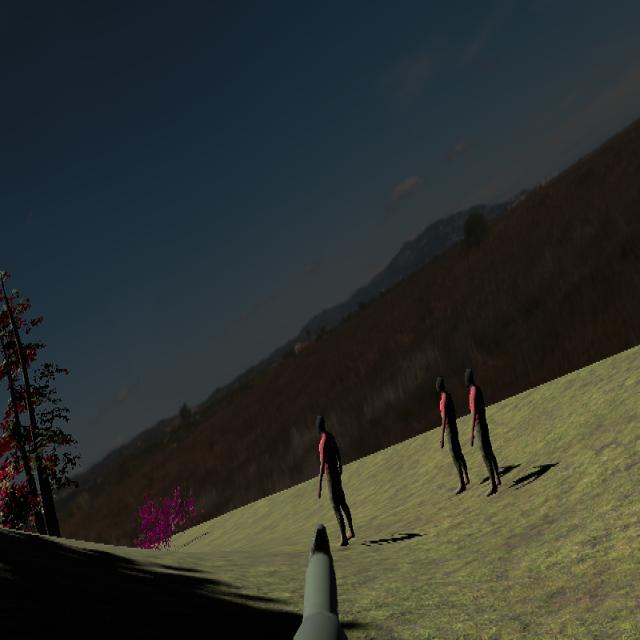Human: (318, 415, 355, 547), (466, 367, 503, 496), (439, 377, 472, 495)
